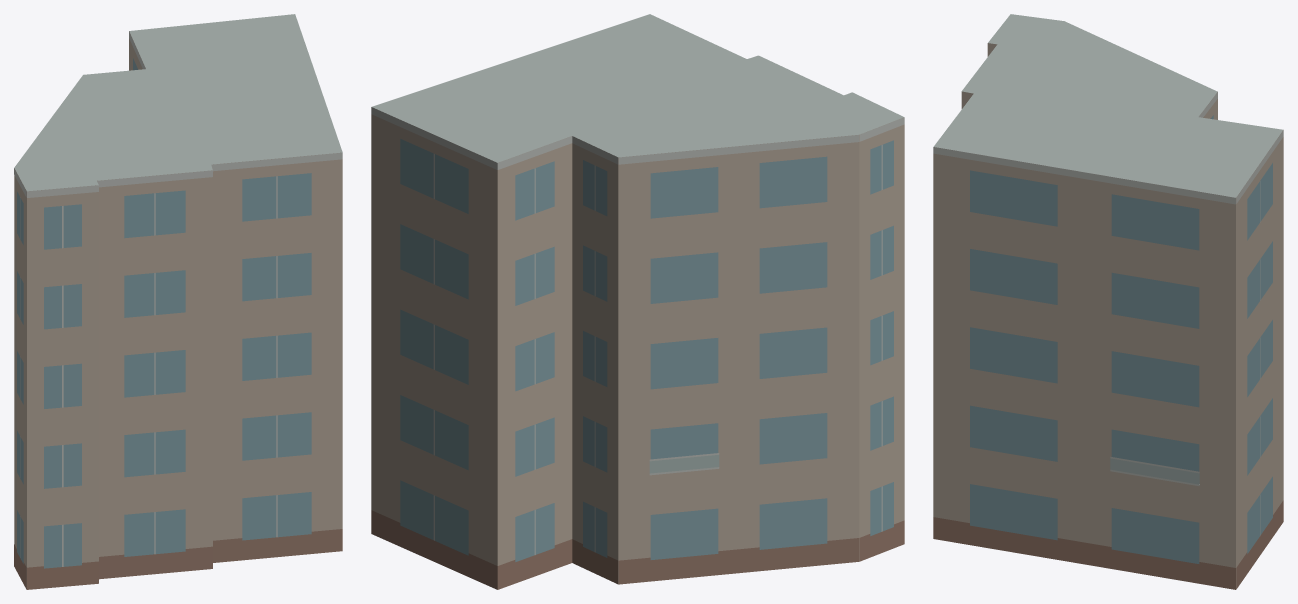
File: survey-upis-32528011.glb
3 views of the same model, side by side, from view 1: azimuth 30°, elevation 25°; view 2: azimuth 150°, elevation 25°; view 3: azimuth 270°, elevation 25° (orthographic). The views are drawn at different scales.
Parts seen in each view (by area): view 1: survey-upis-32528011.tmp; view 2: survey-upis-32528011.tmp; view 3: survey-upis-32528011.tmp.
Boxes of the visible parts, x1=… form: survey-upis-32528011.tmp: x1=14, y1=14, x2=342, y2=589; survey-upis-32528011.tmp: x1=371, y1=14, x2=904, y2=589; survey-upis-32528011.tmp: x1=933, y1=14, x2=1283, y2=589.
Bounding box in the file's own units: 14.39 × 14.3 × 11.58.
